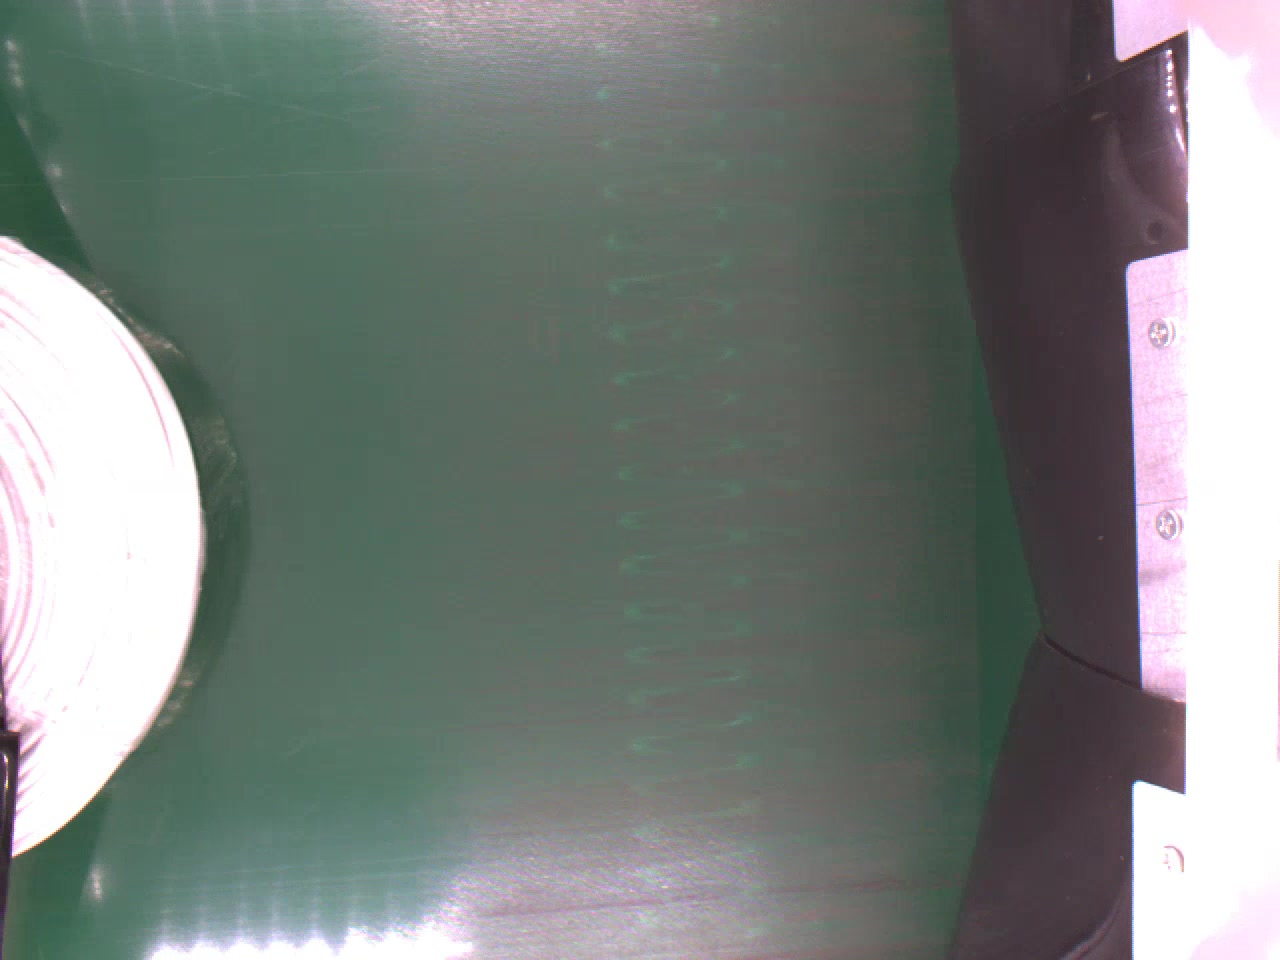white: (0, 233, 211, 859)
